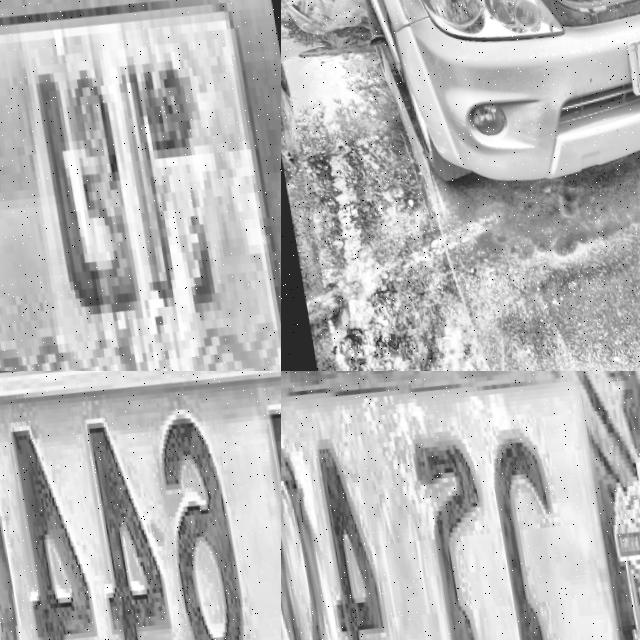license-plate: (0, 0, 281, 371), (281, 371, 640, 640), (0, 371, 281, 640), (617, 5, 640, 102)
